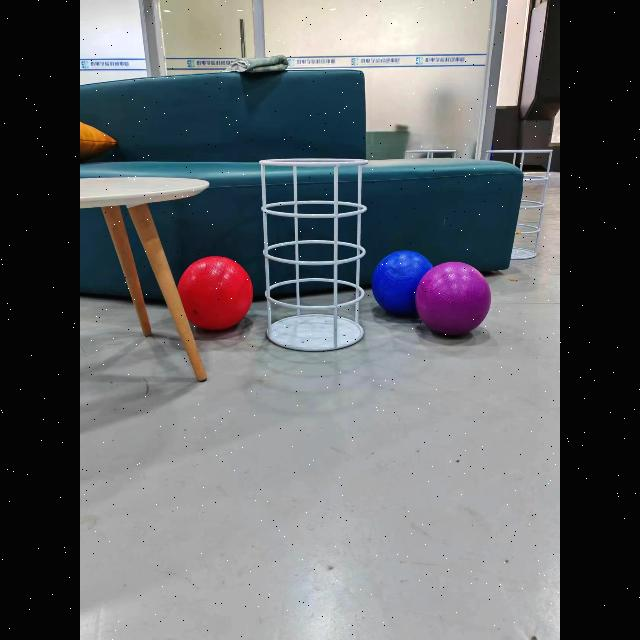B: (372, 251, 432, 315)
P: (416, 261, 491, 335)
R: (178, 256, 252, 330)
S: (260, 158, 367, 351)
